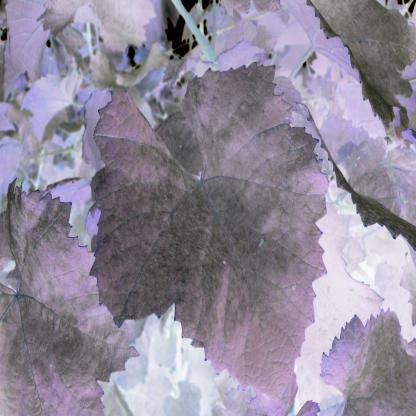squash powdery mildew leaf: (89, 63, 331, 404)
